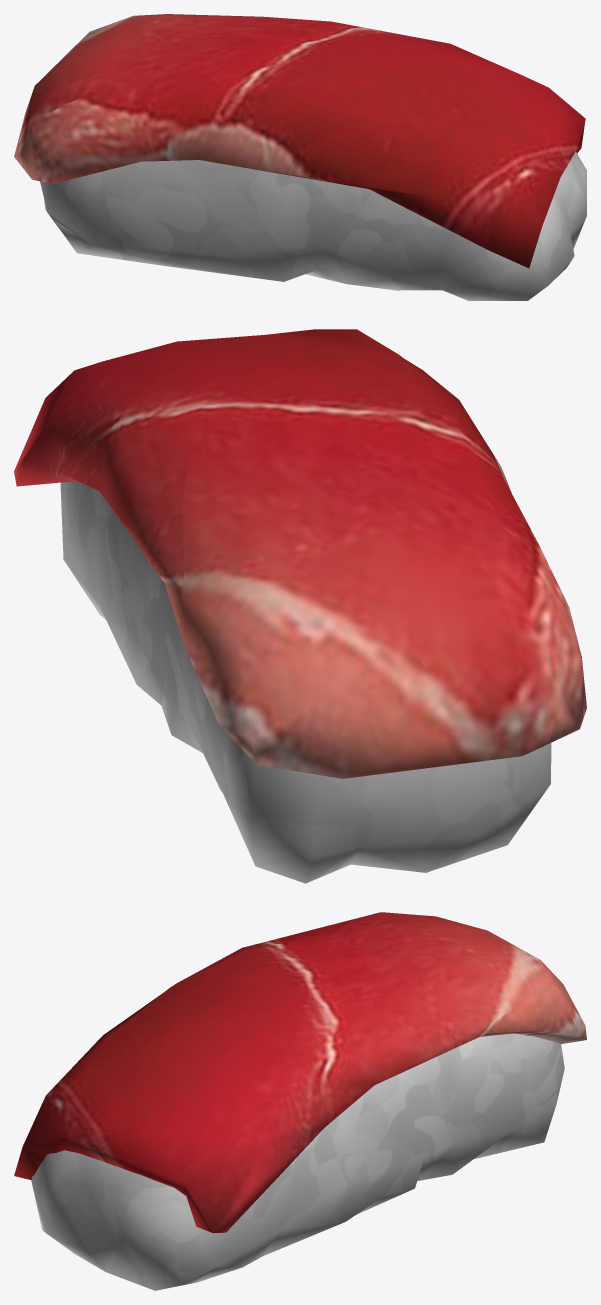
The model's file is _unasushi.fbx.
3 views of the same model, one above another, from view 1: azimuth 30°, elevation 25°; view 2: azimuth 150°, elevation 25°; view 3: azimuth 270°, elevation 25° (orthographic). The views are drawn at different scales.
Parts seen in each view (by area): view 1: Salmon 4.008, Riceball 4.007; view 2: Salmon 4.008, Riceball 4.007; view 3: Salmon 4.008, Riceball 4.007.
Boxes of the visible parts, x1=… form: Salmon 4.008: x1=14, y1=14, x2=585, y2=268; Riceball 4.007: x1=40, y1=151, x2=586, y2=300; Salmon 4.008: x1=14, y1=329, x2=586, y2=778; Riceball 4.007: x1=60, y1=481, x2=551, y2=883; Salmon 4.008: x1=14, y1=912, x2=586, y2=1233; Riceball 4.007: x1=31, y1=1033, x2=564, y2=1290.
Size of the model in its own units: 101 by 44.15 by 102.
2 materials, 2 textured.
